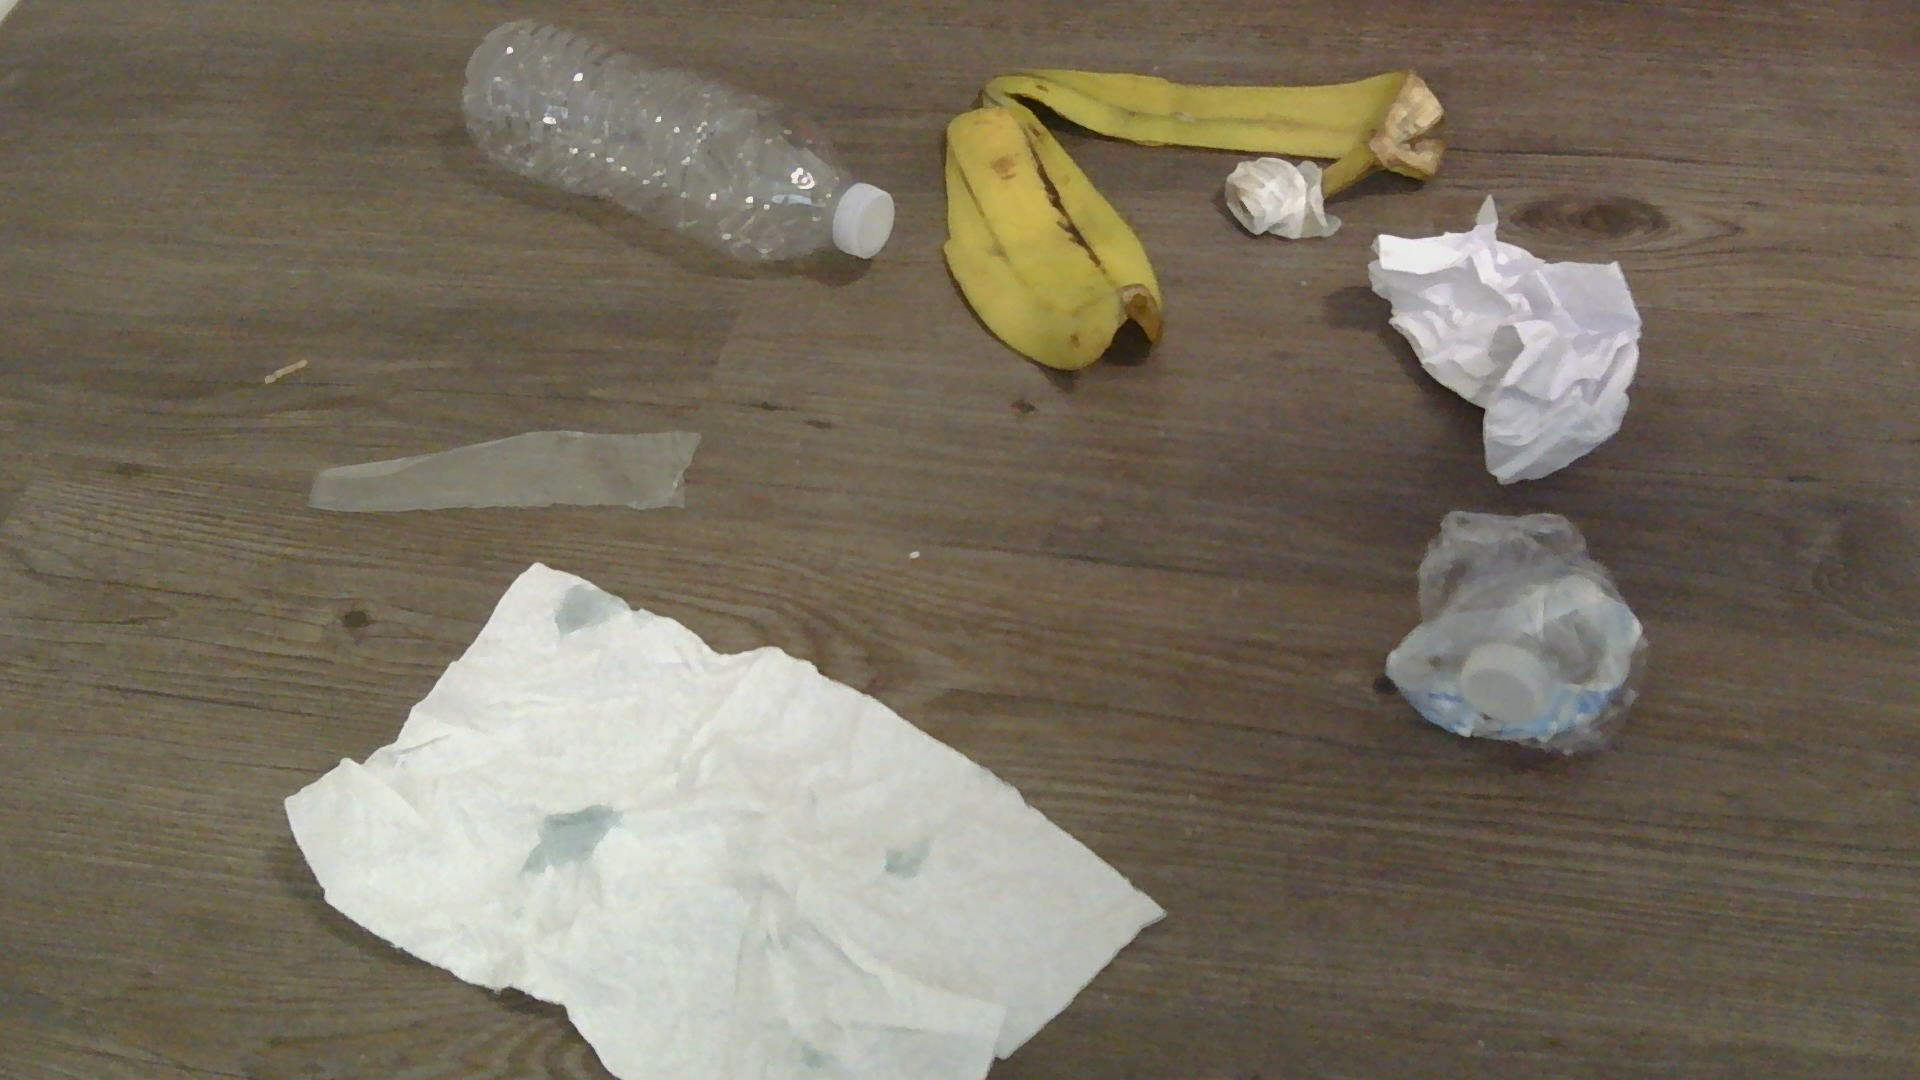banana peel: (942, 66, 1443, 375)
bottle: (462, 18, 891, 266)
crushed bottle: (1374, 498, 1647, 760)
napkin: (285, 558, 1155, 1080)
paper: (1362, 198, 1647, 483), (1224, 156, 1338, 239)
plastic piece: (306, 426, 699, 520)
